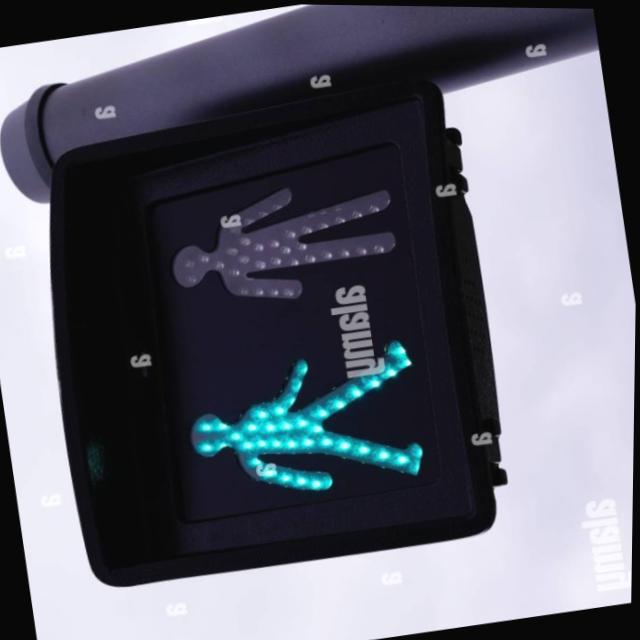green_light: (169, 338, 434, 516)
